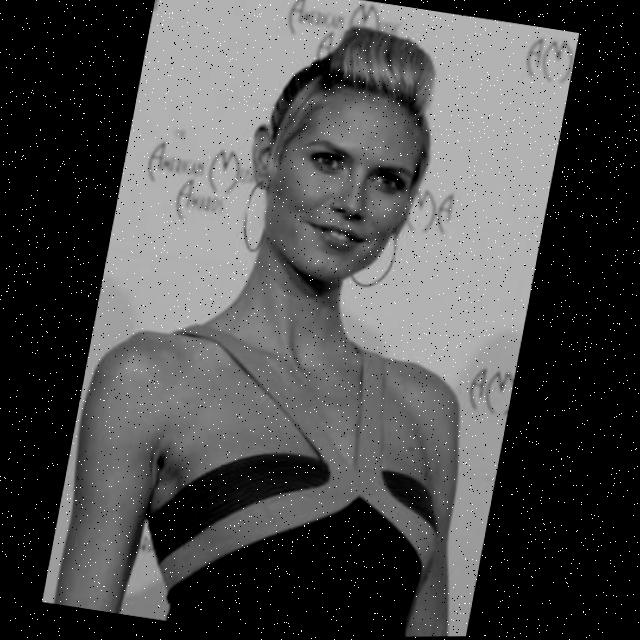face: (231, 61, 445, 305)
